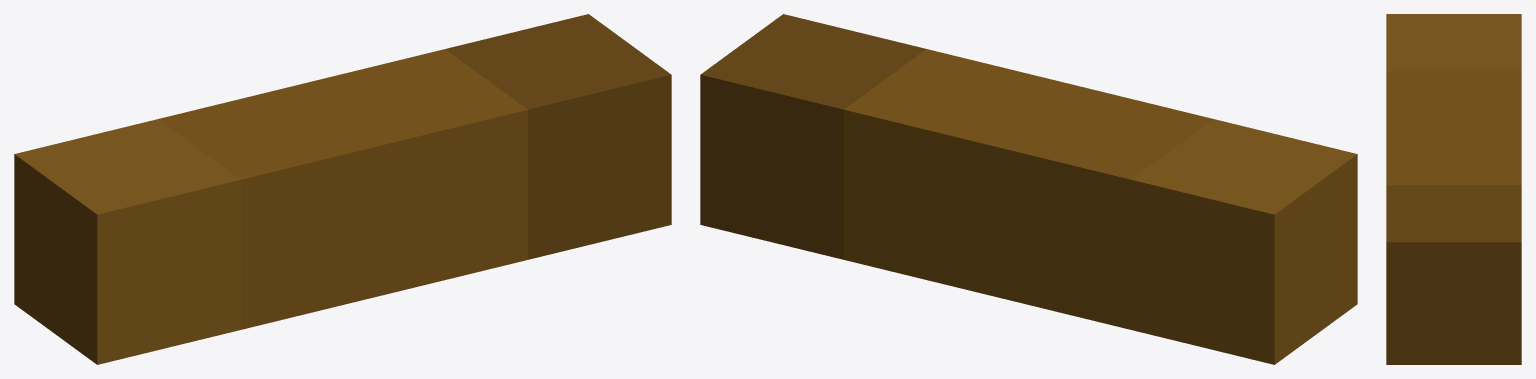
File: 4mmA.obj
3 views of the same model, side by side, from view 1: azimuth 30°, elevation 25°; view 2: azimuth 150°, elevation 25°; view 3: azimuth 270°, elevation 25° (orthographic). The views are drawn at different scales.
Parts seen in each view (by area): view 1: rbrsa3a7; view 2: rbrsa3a7; view 3: rbrsa3a7.
Boxes of the visible parts, box(x1,y1,x2,y2) form: rbrsa3a7: box(14, 14, 671, 364); rbrsa3a7: box(700, 14, 1357, 364); rbrsa3a7: box(1386, 14, 1521, 364).
Bounding box in the file's own units: 0.4 × 0.1 × 0.1.
Materials: 1 (1 with a texture image).
